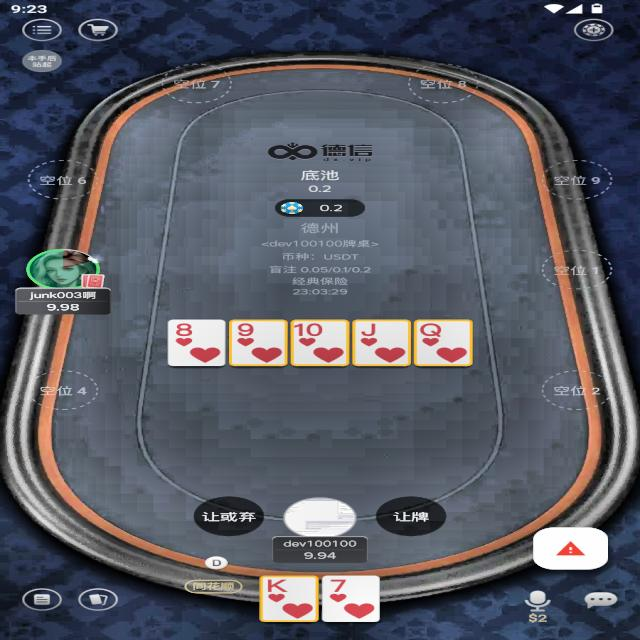10h: (293, 322, 324, 338)
7h: (326, 577, 349, 594)
8h: (174, 321, 196, 338)
9h: (235, 322, 258, 338)
Jh: (358, 322, 380, 338)
Kh: (264, 577, 292, 594)
Qh: (418, 322, 448, 338)
